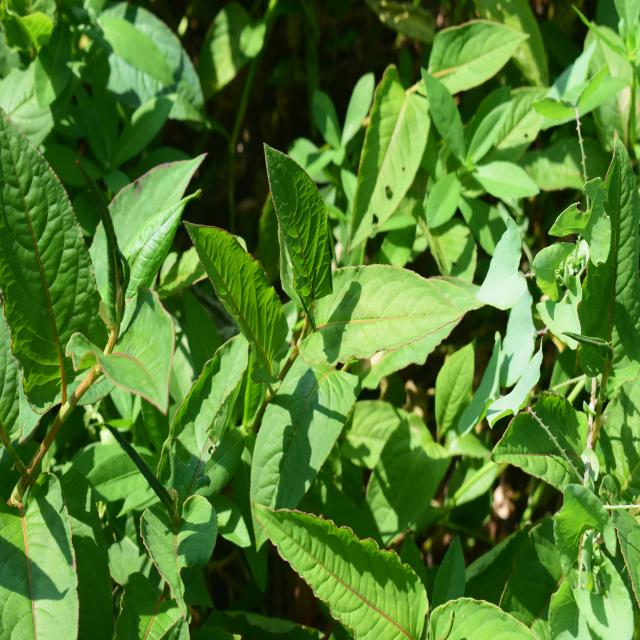Chinese_knotweed: (189, 161, 430, 499), (0, 128, 189, 393)
